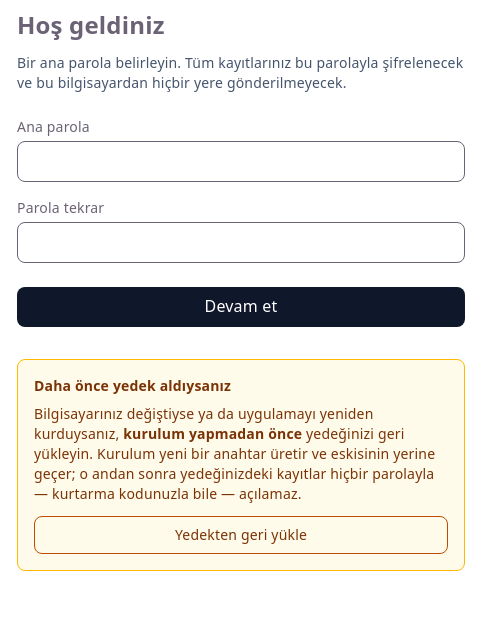
Test: KurulumSihirbazi › parolalar eslesmezse uyarir
Type "gizliparola" into the password field labelled "Ana parola" at (241, 162), box [17,141,465,182]
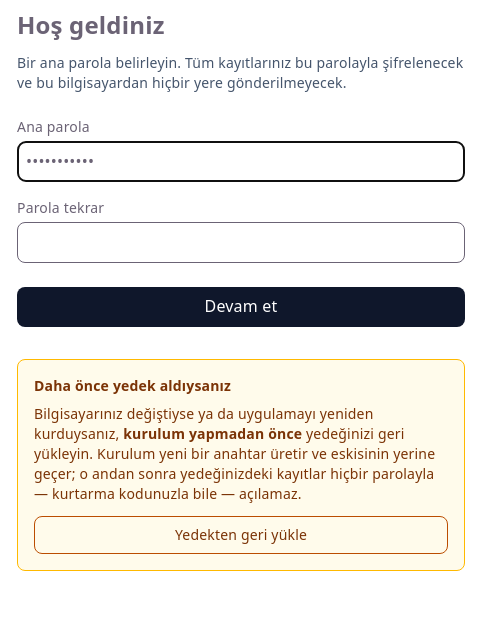
Type "baskaparola" into the password field labelled "Parola tekrar" at (241, 243), box [17,222,465,263]
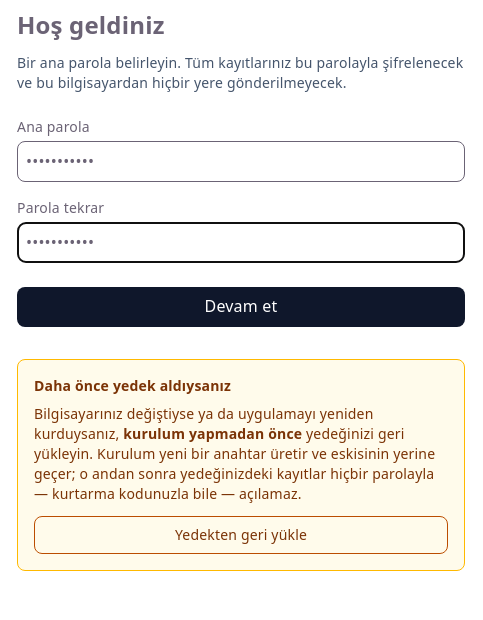
Click the button "Devam et" at (241, 307), box [17,287,465,327]
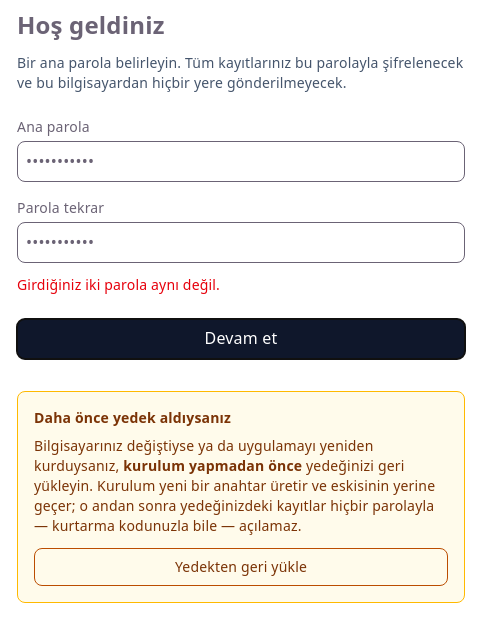
Result: the text "Girdiğiniz iki parola aynı değil." is shown at [17,275,220,294]
